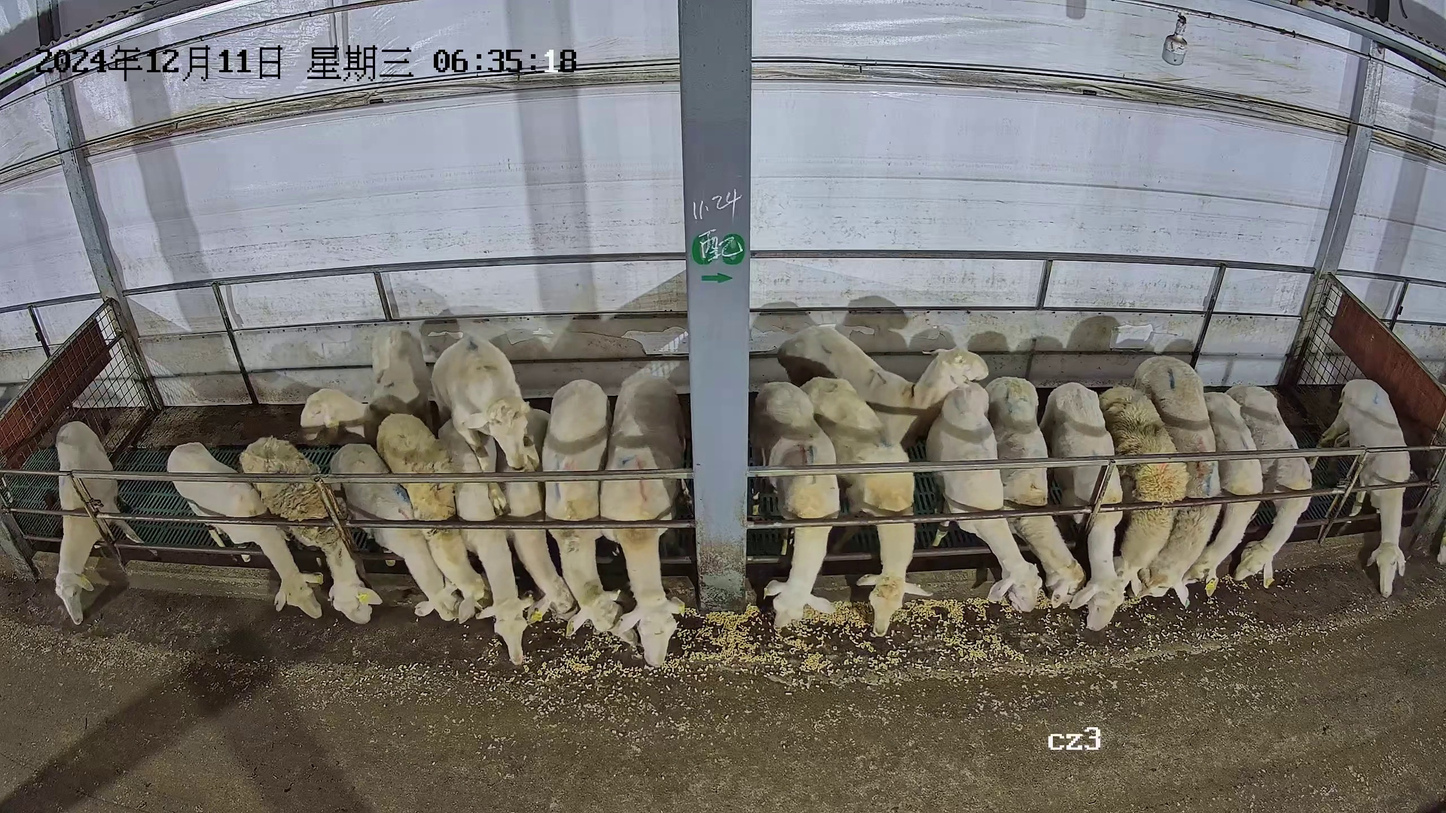Nmounting: (428, 336, 545, 625)
